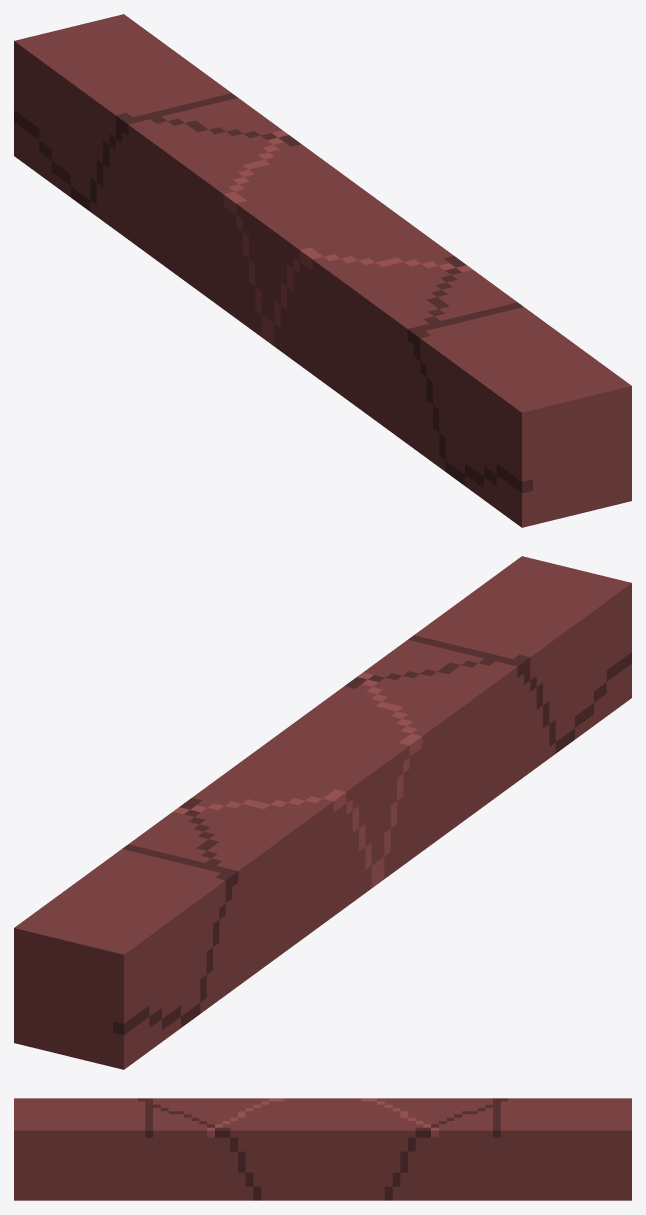
File: stadium-large-complex-3.obj
3 views of the same model, one above another, from view 1: azimuth 30°, elevation 25°; view 2: azimuth 150°, elevation 25°; view 3: azimuth 270°, elevation 25° (orthographic). The views are drawn at different scales.
Size of the model in its own units: 1 by 1 by 8.
Materials: 1 (1 with a texture image).
